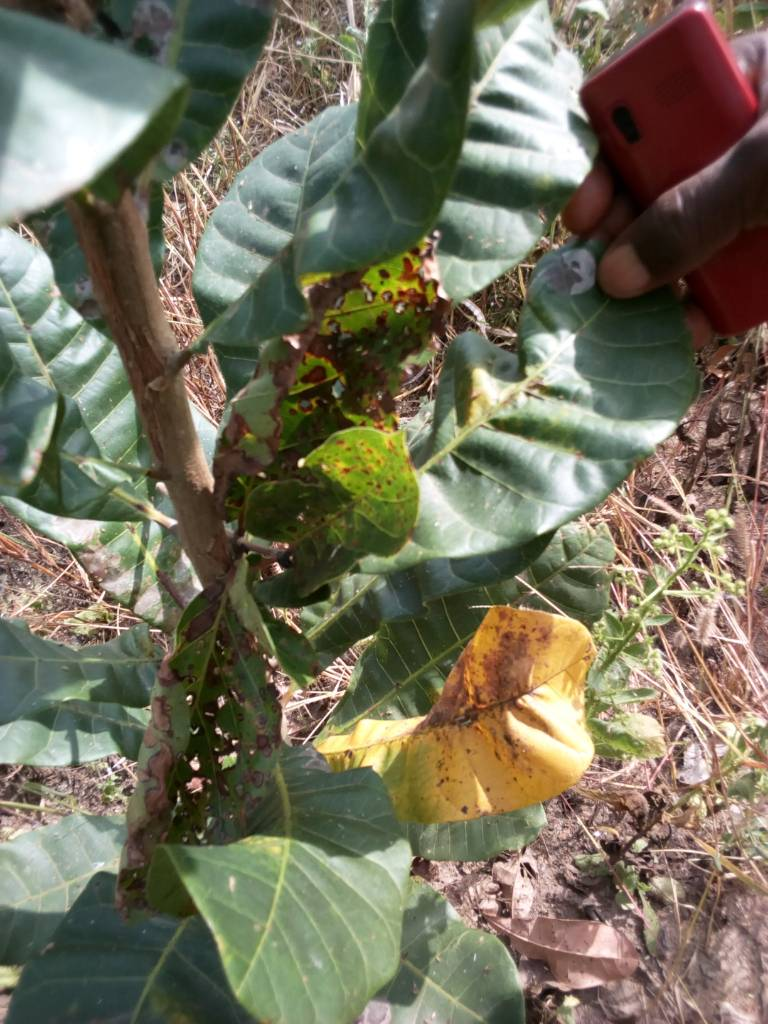Helopeltis anacardii: (130, 585, 282, 914), (388, 611, 590, 817), (274, 430, 418, 555)
